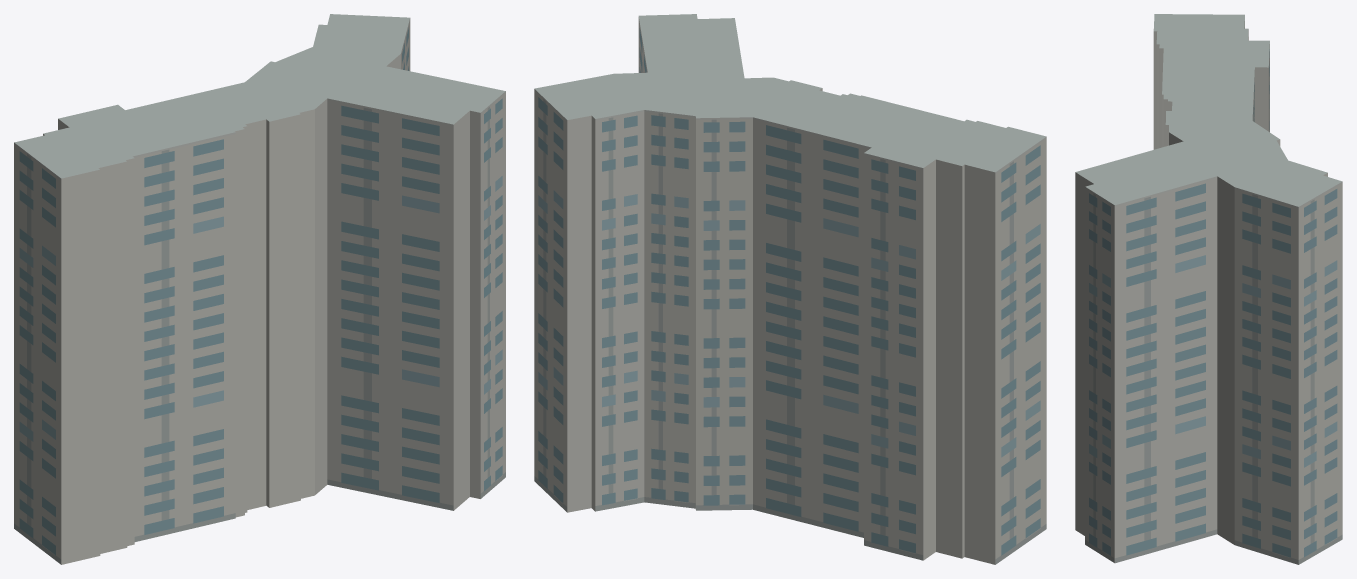
Rendered from residential-798e4ff4-e62d-4164-962f-31d1310e0ae2.glb.
3 views of the same model, side by side, from view 1: azimuth 30°, elevation 25°; view 2: azimuth 150°, elevation 25°; view 3: azimuth 270°, elevation 25° (orthographic). The views are drawn at different scales.
Parts seen in each view (by area): view 1: residential-798e4ff4-e62d-4164-962f-31d1310e0ae2.tmp; view 2: residential-798e4ff4-e62d-4164-962f-31d1310e0ae2.tmp; view 3: residential-798e4ff4-e62d-4164-962f-31d1310e0ae2.tmp.
Boxes of the visible parts, x1,y1,x2,y2 form: residential-798e4ff4-e62d-4164-962f-31d1310e0ae2.tmp: (14,14,505,564); residential-798e4ff4-e62d-4164-962f-31d1310e0ae2.tmp: (534,14,1046,564); residential-798e4ff4-e62d-4164-962f-31d1310e0ae2.tmp: (1075,14,1342,564).
Size of the model in its own units: 65.88 by 57 by 38.58.
